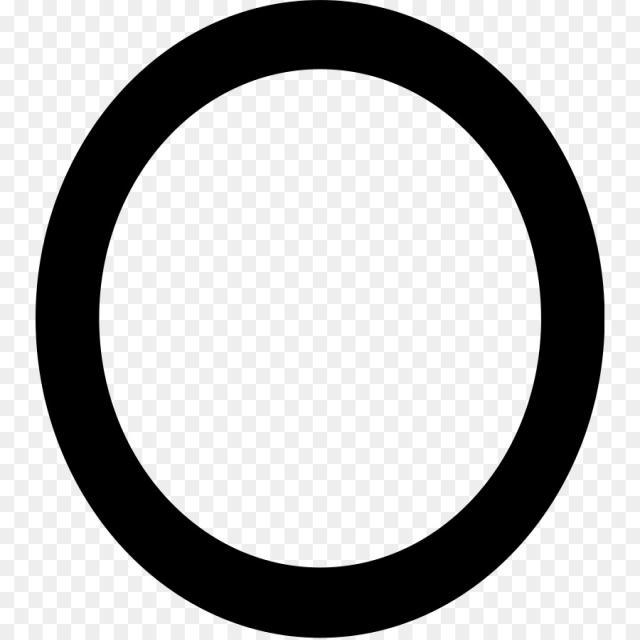Circle: (32, 1, 610, 637)
